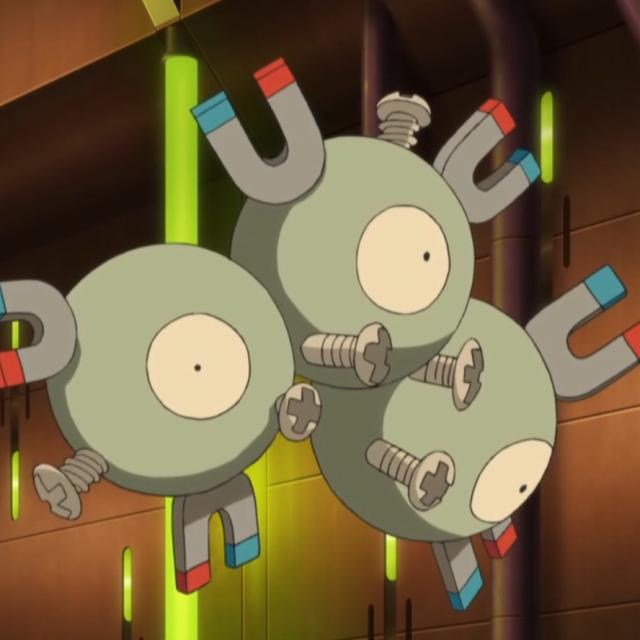Magneton: (45, 102, 569, 522)
